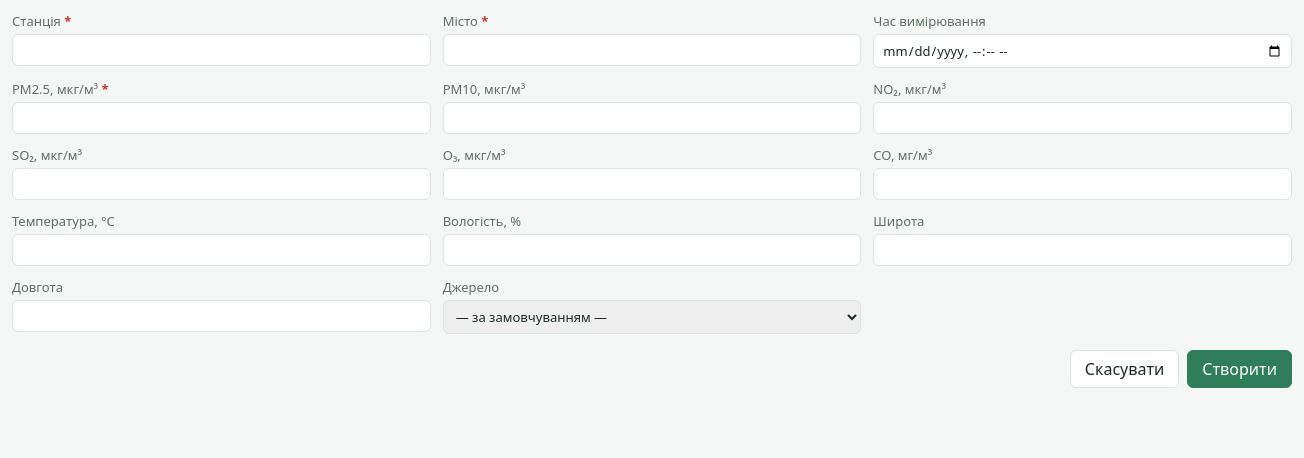
Test: перевірка форми › коректні дані відправляються, помилка сервера видна у формі
Type "KYIV_001" into the field named "station_id" at [221, 50], box [12, 34, 431, 66]
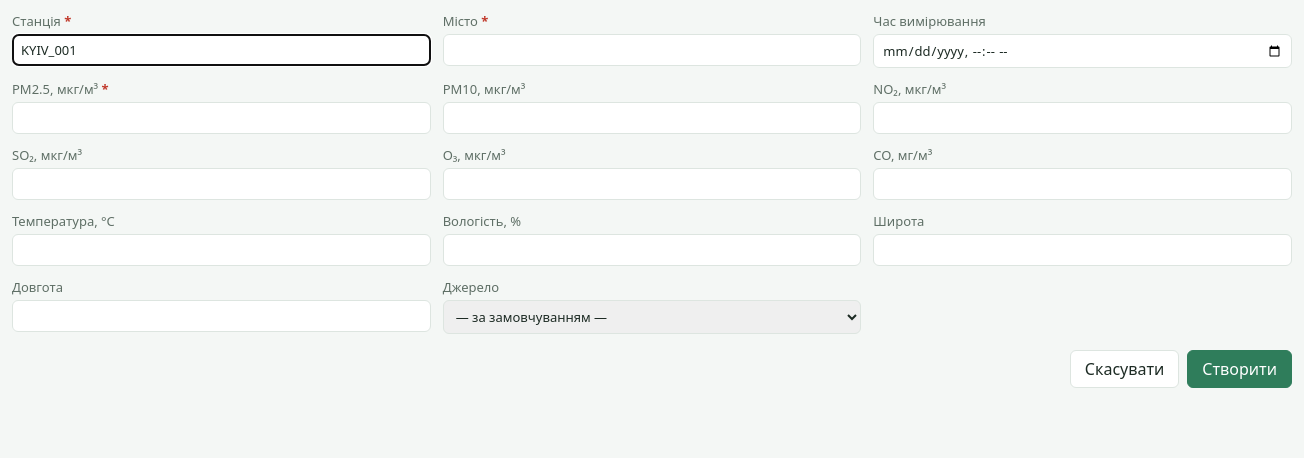
Type "Київ" into the field named "city" at [652, 50], box [443, 34, 861, 66]
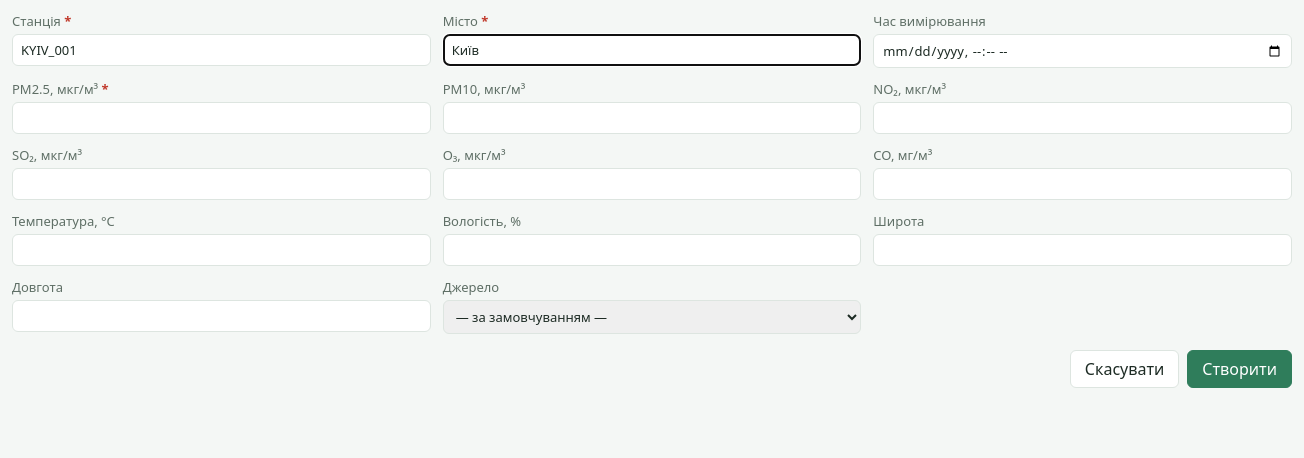
Type "12.5" into the number field named "pm25" at [221, 118], box [12, 102, 431, 134]
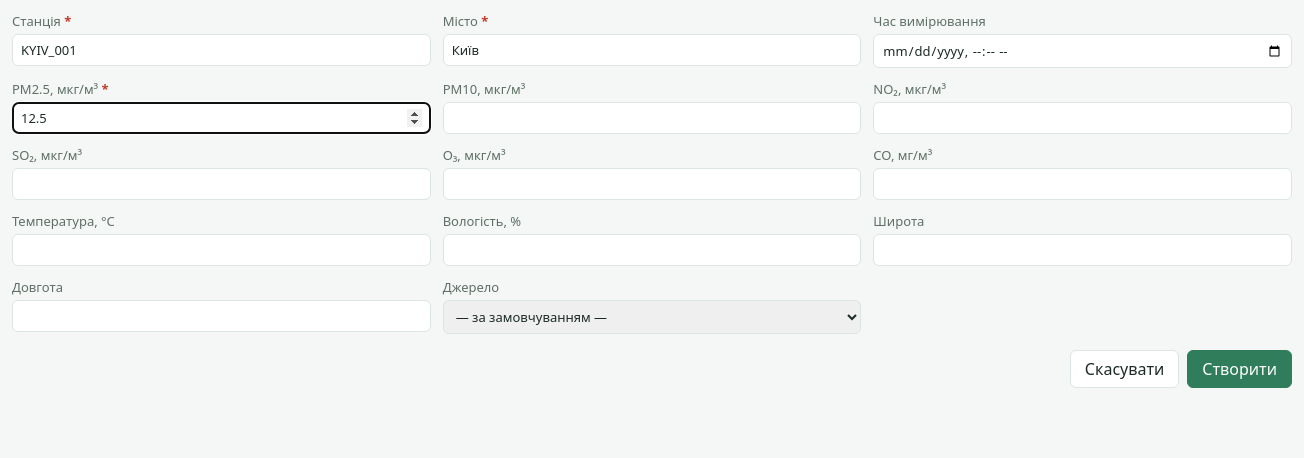
Click the button "Створити" at [1240, 369], box [1187, 350, 1292, 388]
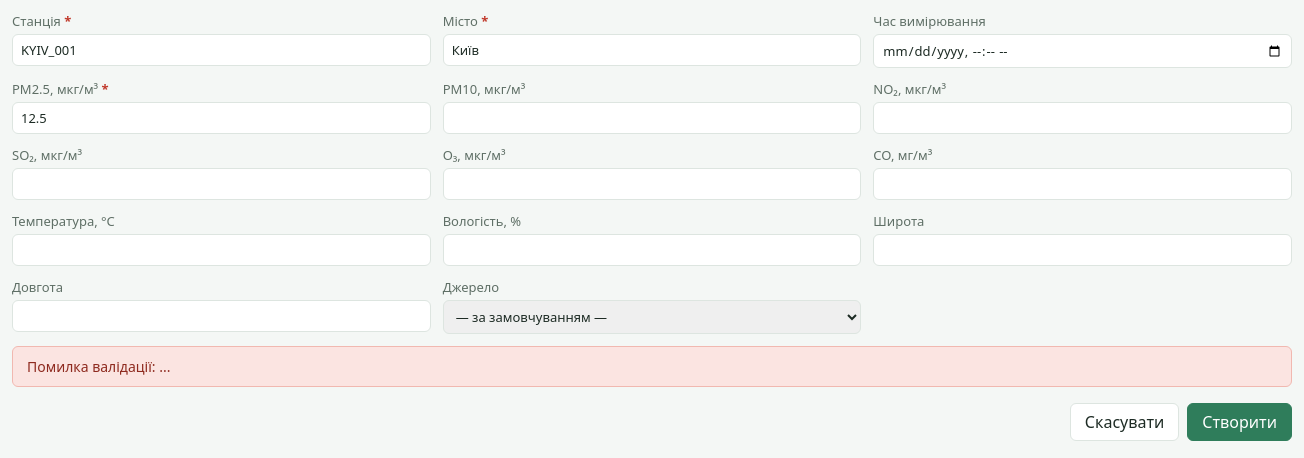
Now the text "Помилка валідації: ..." is shown, box [12, 346, 1292, 387]
